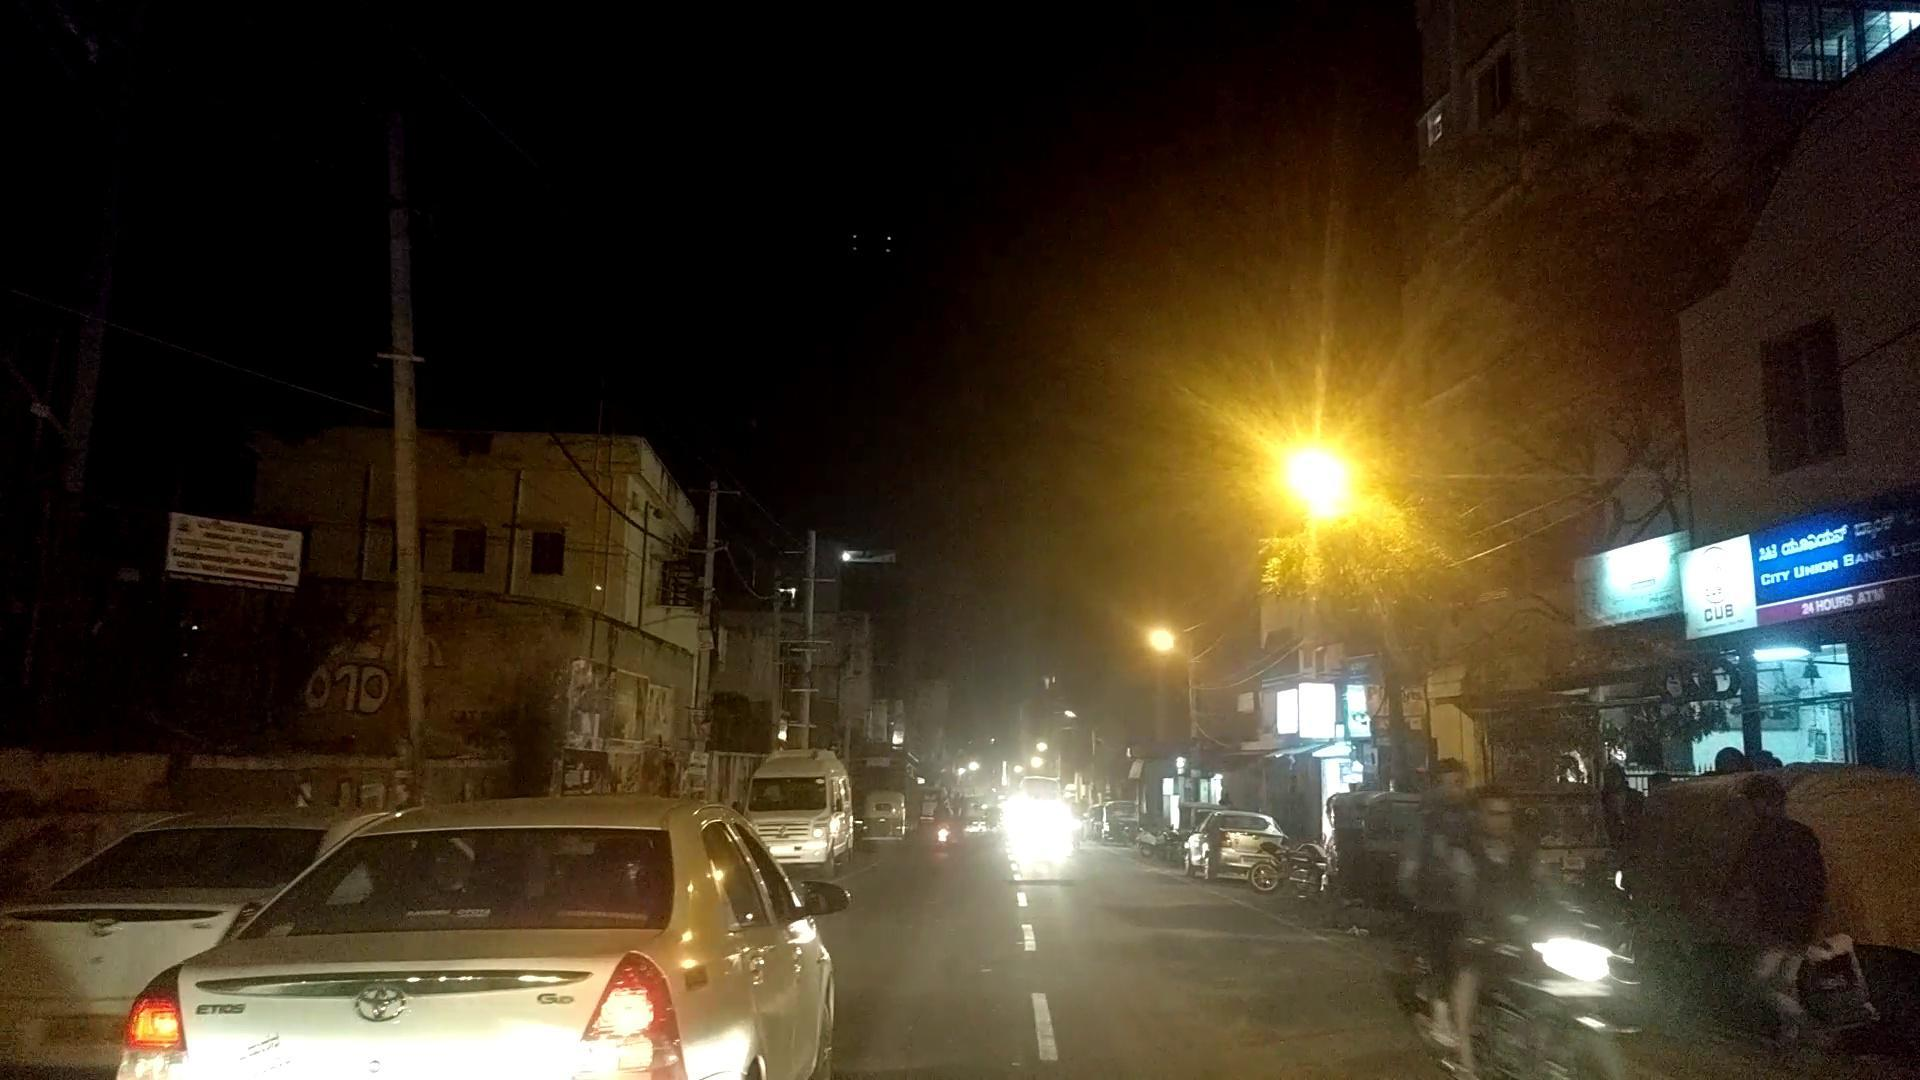on: (1150, 313, 1486, 659)
